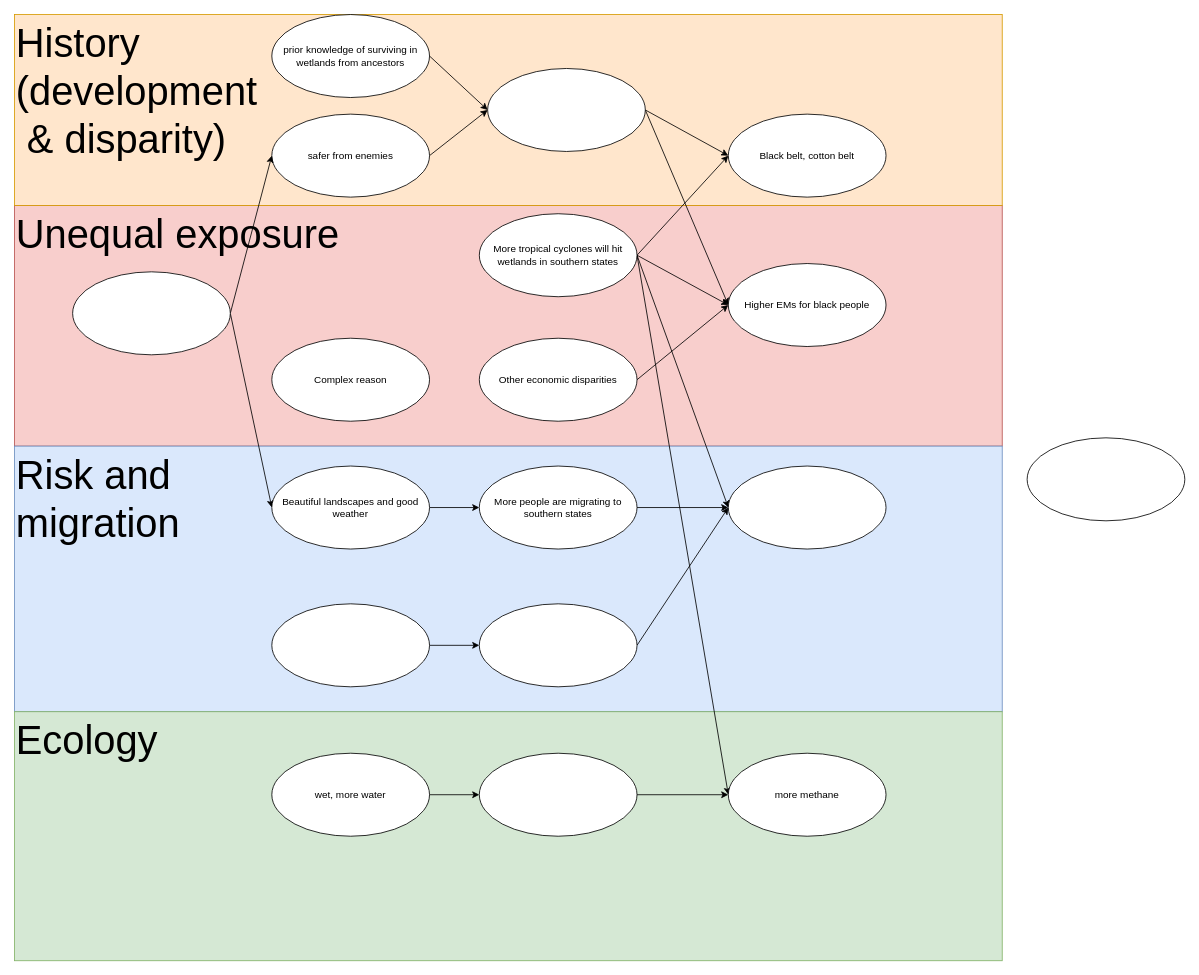
Image size: 1199x975. Some labels were removed from this diagram. The shapes that lost their labels are listed below. From the top down, each one's centre as x and y in pixels, then its label:
(x=566, y=109): black people live more in wetlands
(x=151, y=313): Wetlands
(x=1105, y=479): feedback network effects
(x=806, y=507): Higher mortality rate
(x=350, y=645): Urbanization
(x=557, y=645): Higher population density
(x=557, y=794): more methanogens
